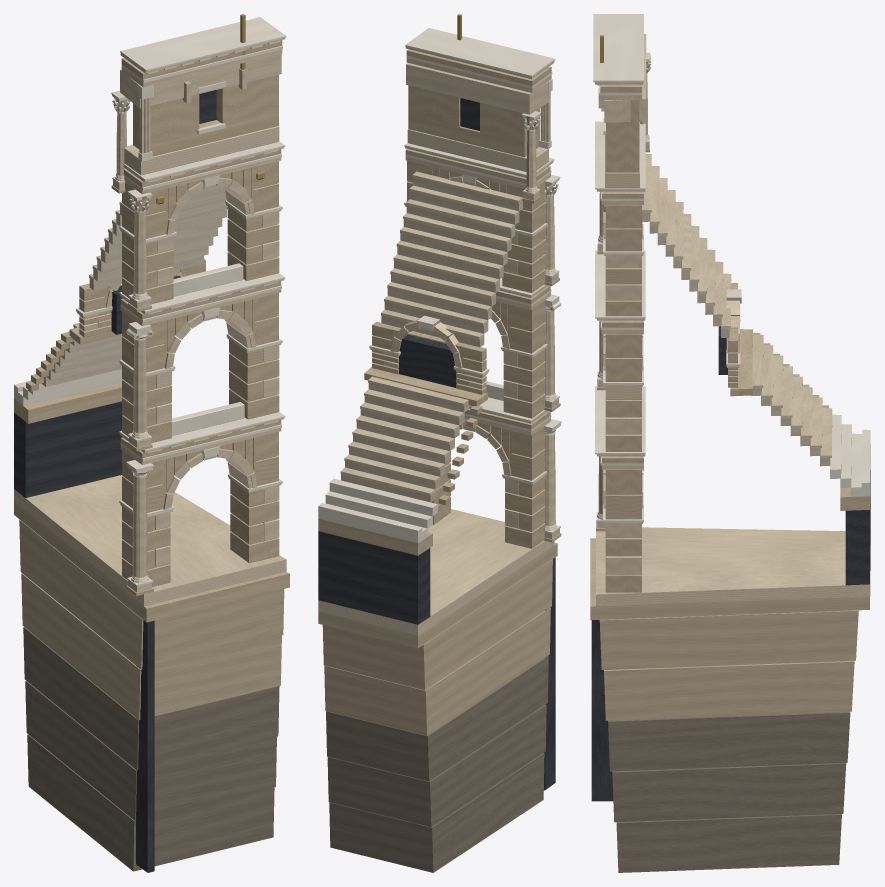
File: UMOD_03_Vomitorium_Cavea_Bay.obj
3 views of the same model, side by side, from view 1: azimuth 30°, elevation 25°; view 2: azimuth 150°, elevation 25°; view 3: azimuth 270°, elevation 25° (orthographic). The views are drawn at different scales.
Parts seen in each view (by area): view 1: UMOD_03_Vomitorium_Cavea_Bay; view 2: UMOD_03_Vomitorium_Cavea_Bay; view 3: UMOD_03_Vomitorium_Cavea_Bay.
Boxes of the visible parts, x1,y1,x2,y2 form: UMOD_03_Vomitorium_Cavea_Bay: (14,14,289,872); UMOD_03_Vomitorium_Cavea_Bay: (318,14,561,872); UMOD_03_Vomitorium_Cavea_Bay: (590,14,870,872).
Bounding box in the file's own units: 18.31 × 96.54 × 29.97.
8 materials, 8 textured.
